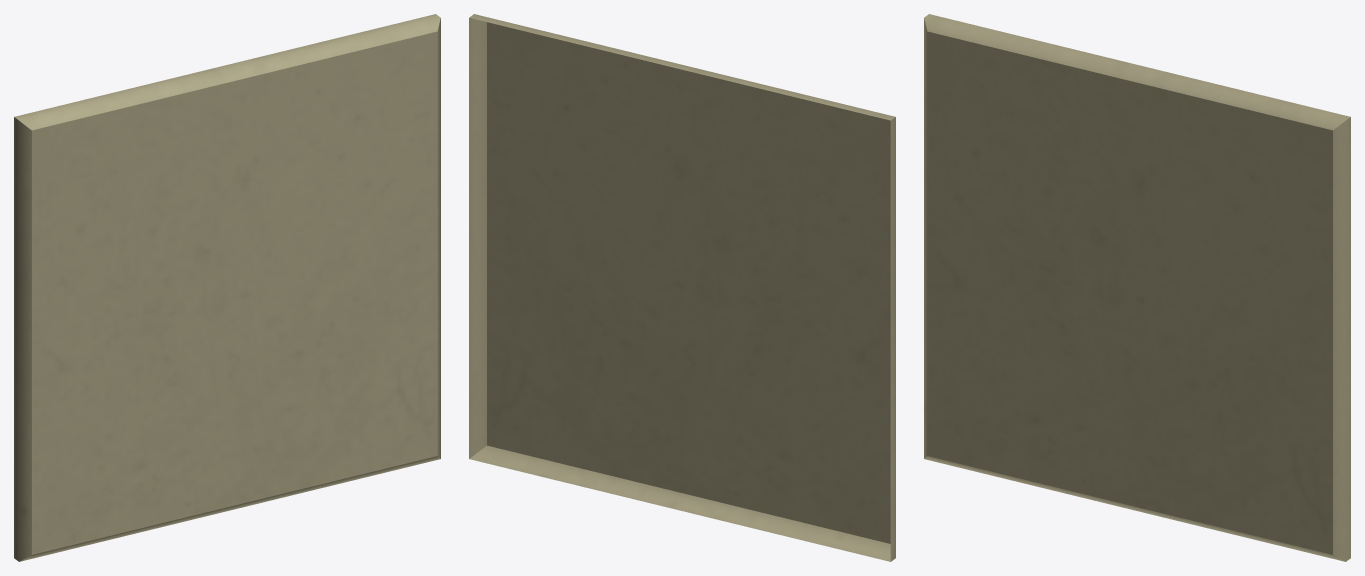
3 renders of one model, left to right at view 1: azimuth 30°, elevation 25°; view 2: azimuth 150°, elevation 25°; view 3: azimuth 330°, elevation 25°, orthographic.
Visible parts, largest first — view 1: Grid; view 2: Grid; view 3: Grid.
Boxes of the visible parts, box(x1,y1,x2,y2) form: Grid: box(14, 14, 440, 561); Grid: box(469, 14, 895, 561); Grid: box(924, 14, 1350, 561).
Size of the model in its own units: 20 by 20 by 0.8.
